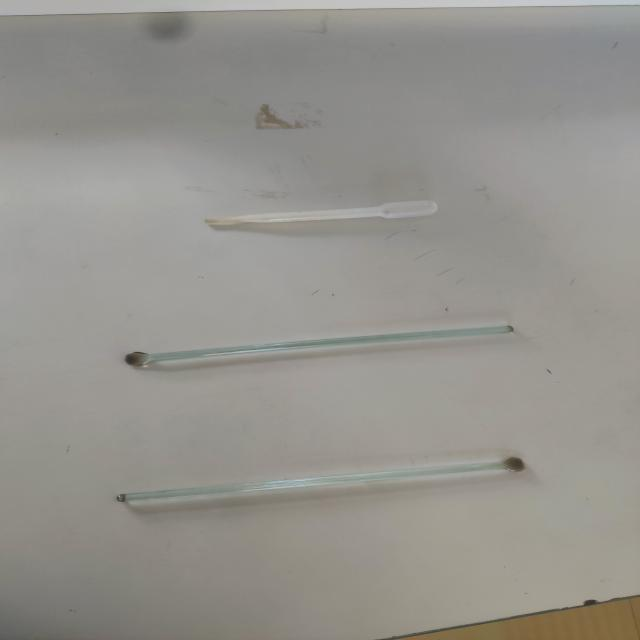Glass_Rod: (79, 307, 548, 388), (90, 447, 543, 529)
Pipette: (190, 183, 463, 248)
